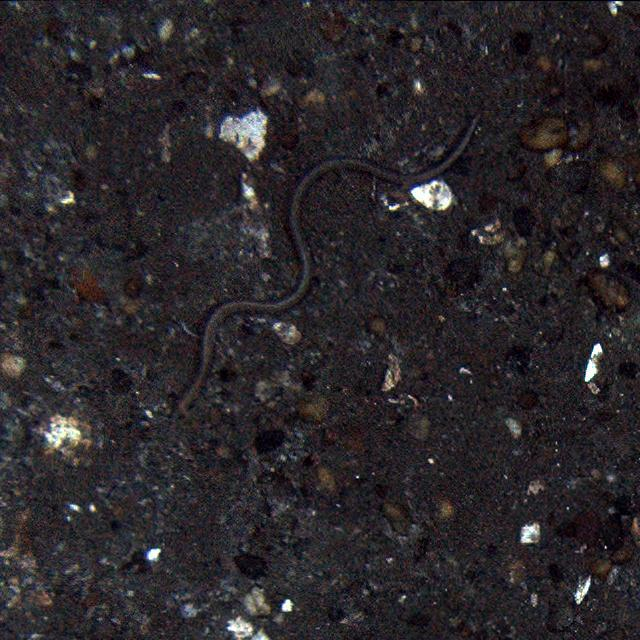eel: (171, 113, 482, 414)
